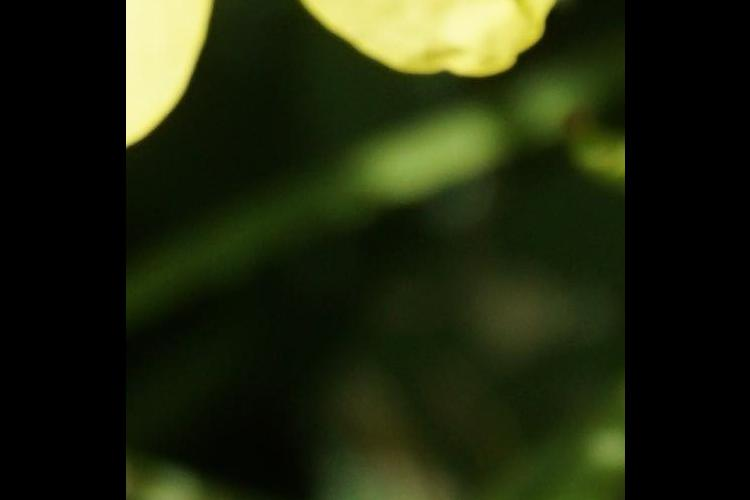yellow: (162, 1, 550, 134)
